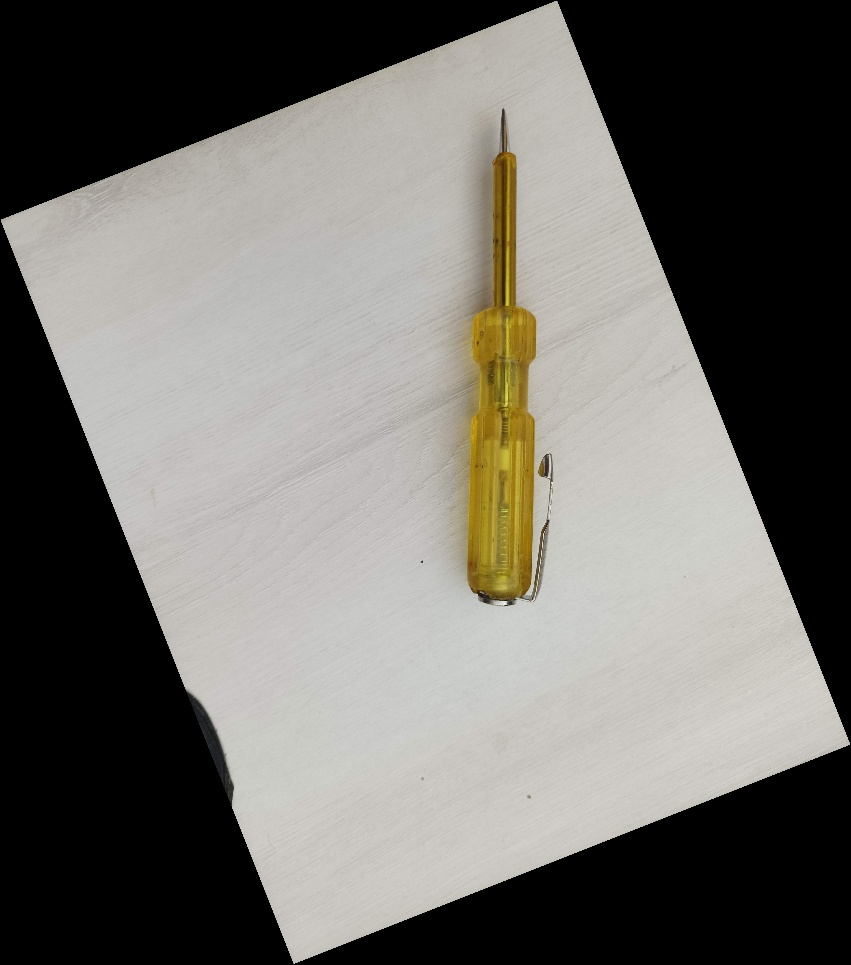screwdriver: (459, 101, 558, 627)
